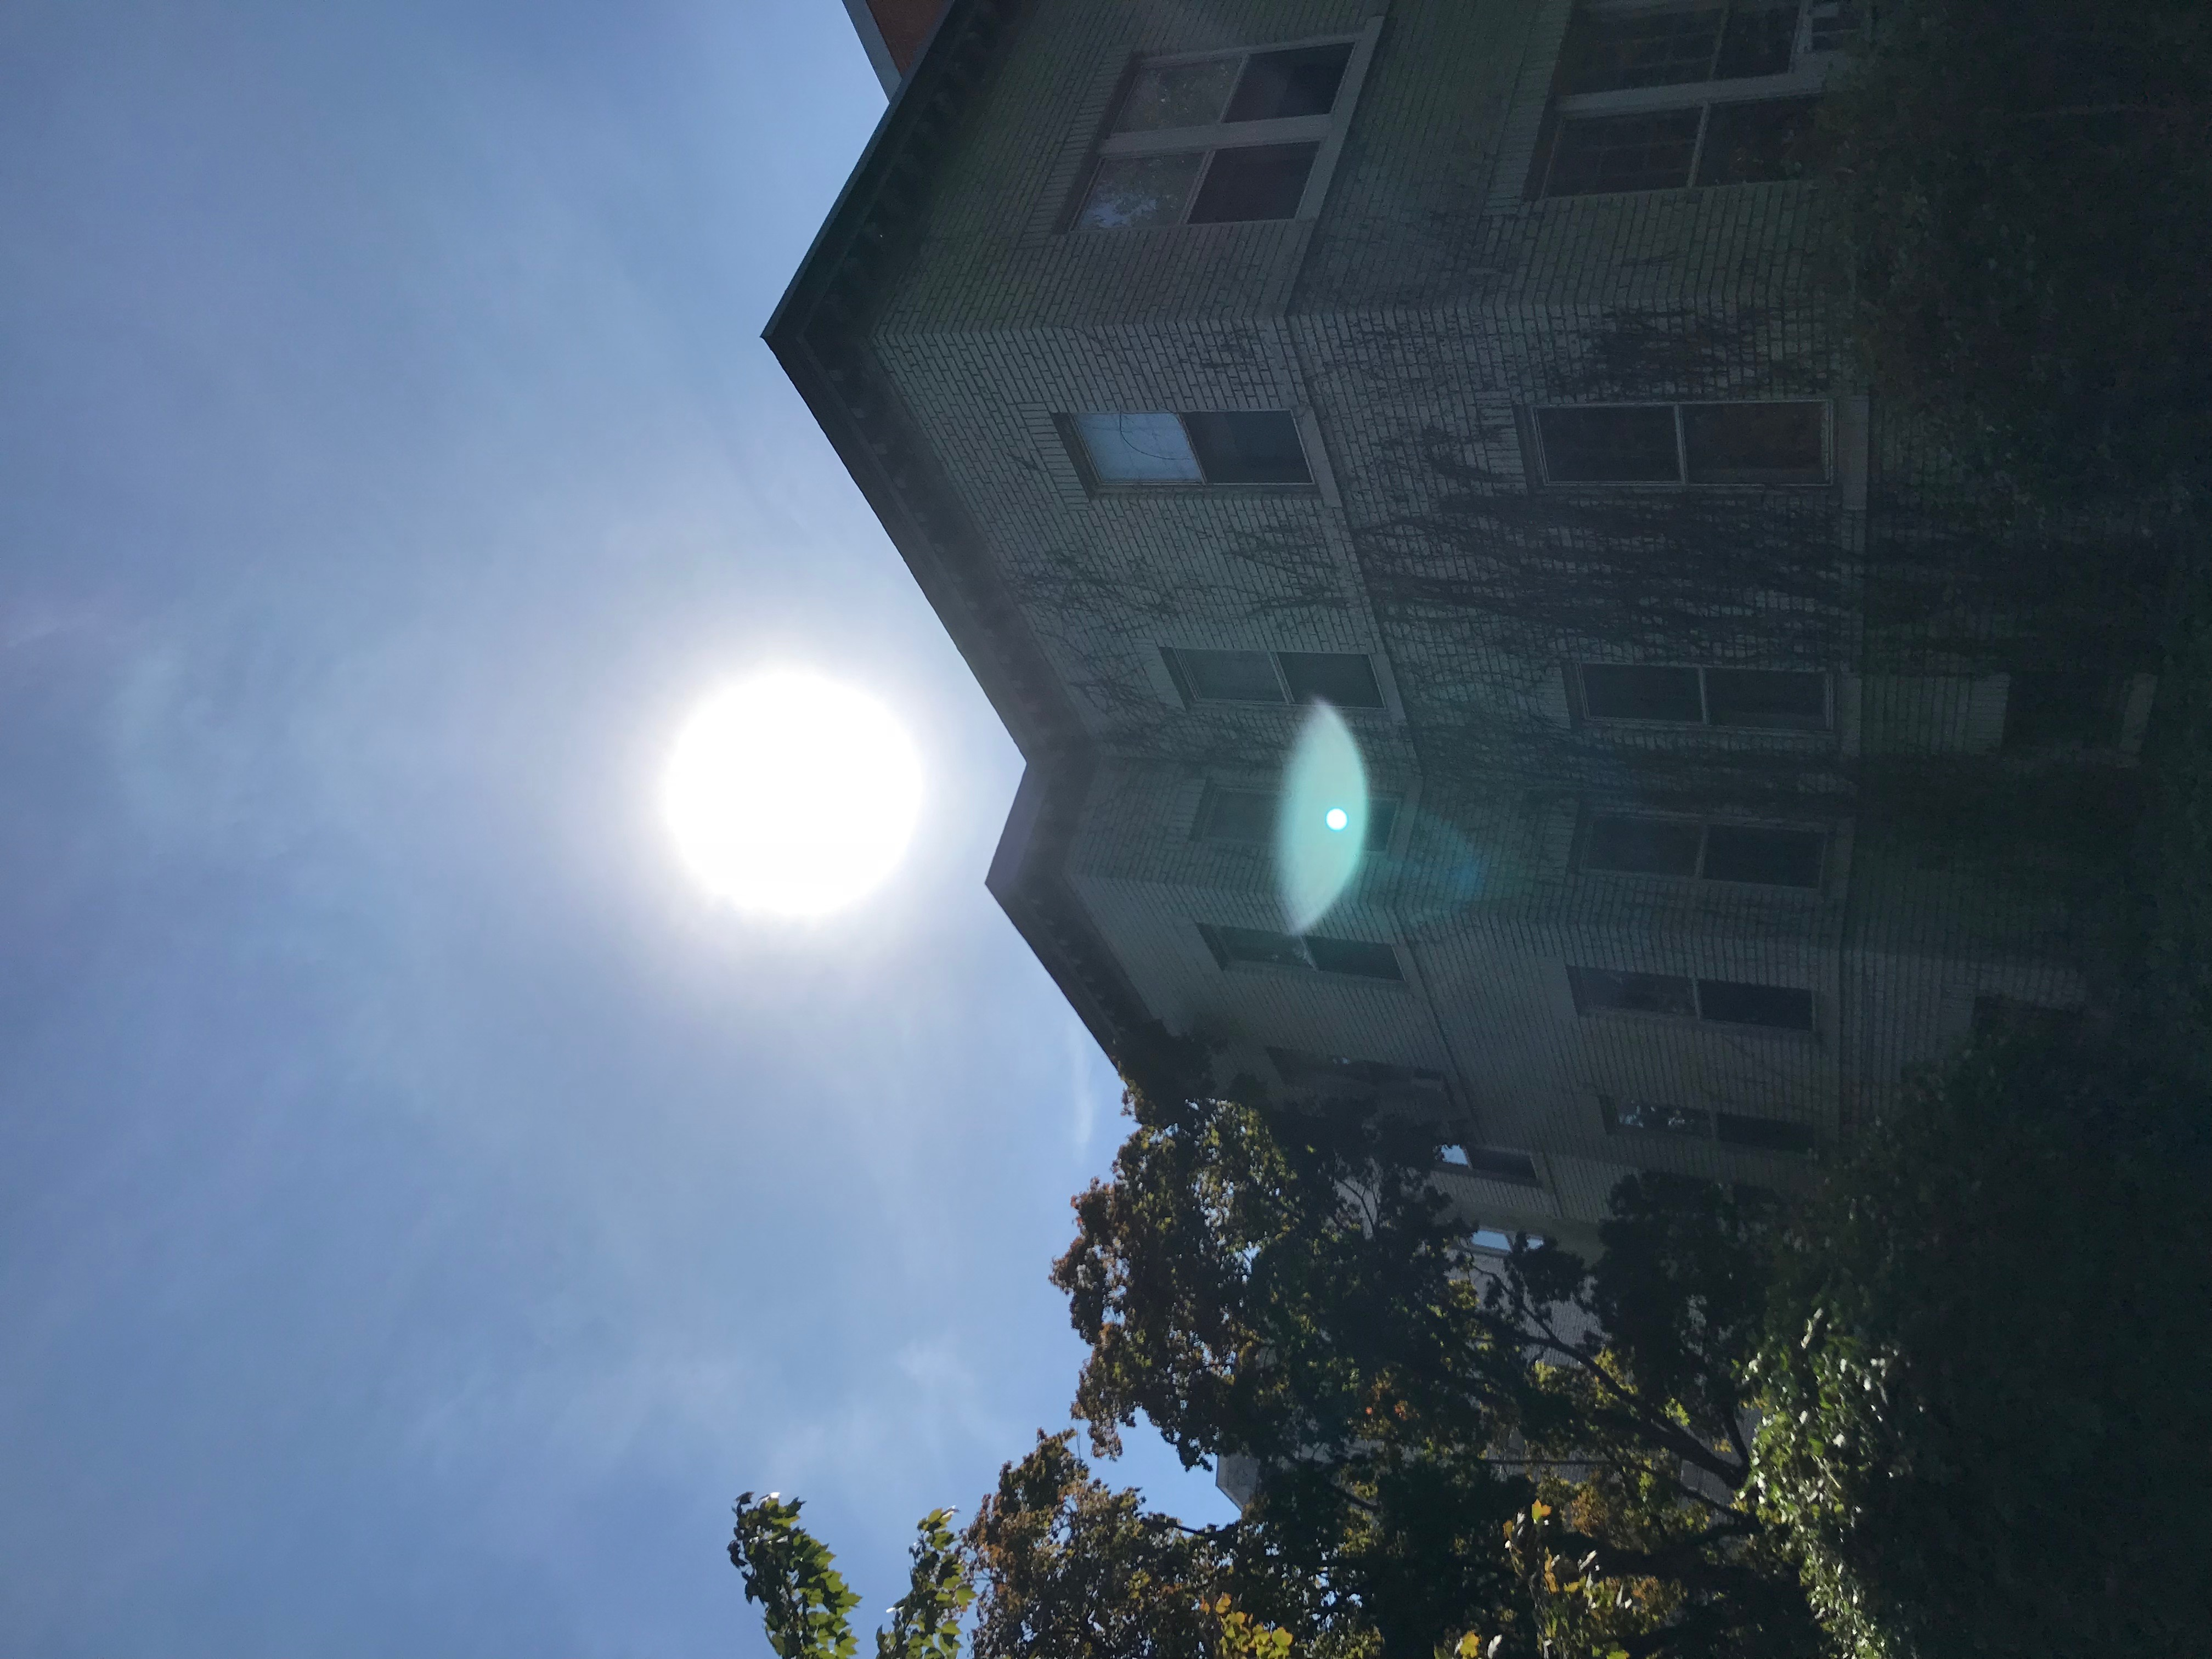flare: (1324, 805, 1350, 833)
